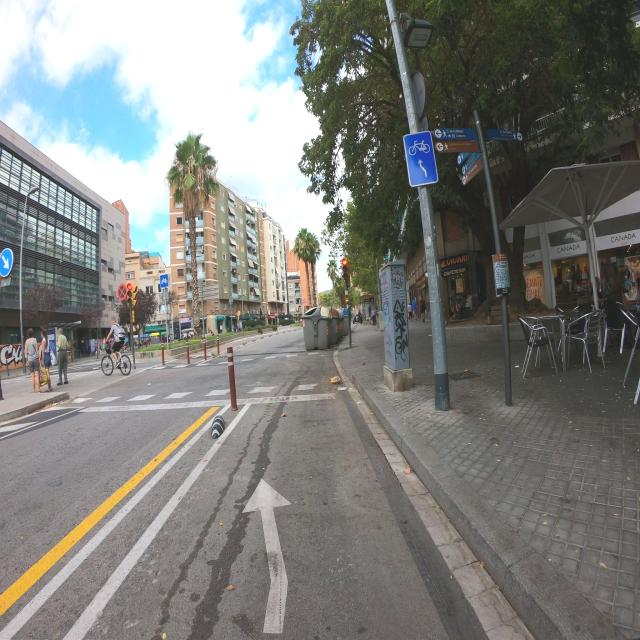bike: (521, 306, 558, 376), (554, 306, 586, 368), (101, 346, 131, 376)
car: (600, 297, 639, 350)
